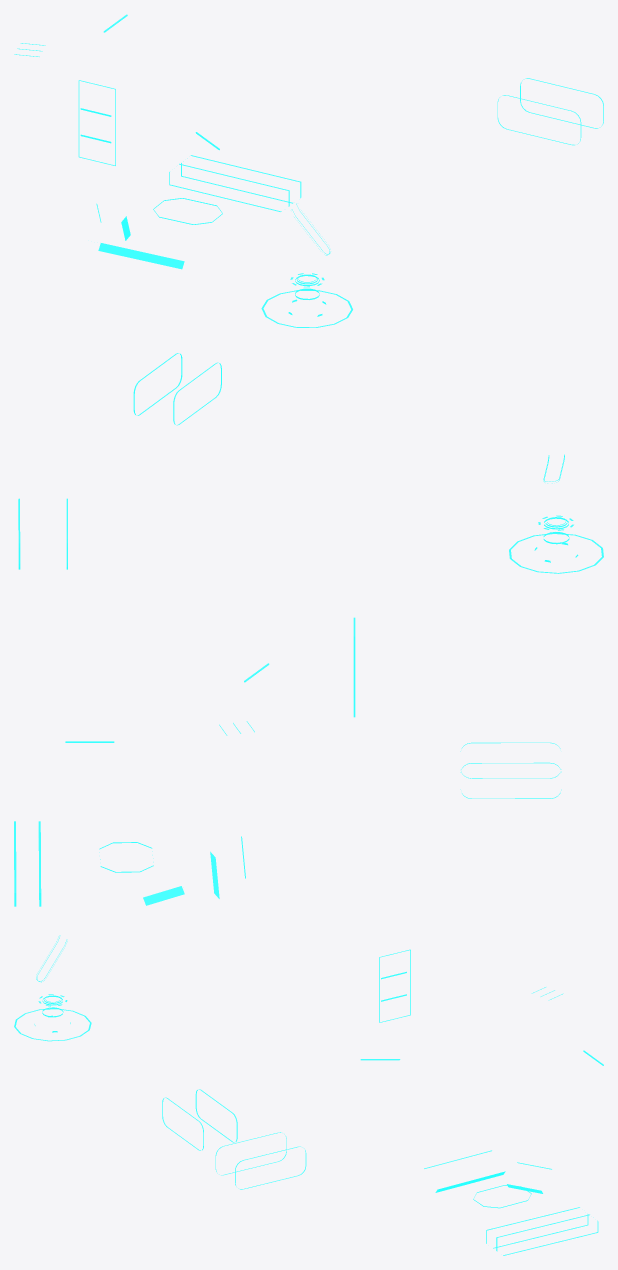
File: blue-emission.glb
3 views of the same model, one above another, from view 1: azimuth 30°, elevation 25°; view 2: azimuth 150°, elevation 25°; view 3: azimuth 270°, elevation 25° (orthographic). The views are drawn at different scales.
Visible parts, largest first — view 1: Props_Furniture.001; view 2: Props_Furniture.001; view 3: Props_Furniture.001.
Part boxes in pixels (left/top/right/bottom): Props_Furniture.001: left=14, top=14, right=603, bottom=425; Props_Furniture.001: left=14, top=454, right=603, bottom=906; Props_Furniture.001: left=14, top=935, right=603, bottom=1255.
Size of the model in its own units: 11.88 by 5.75 by 14.45.
